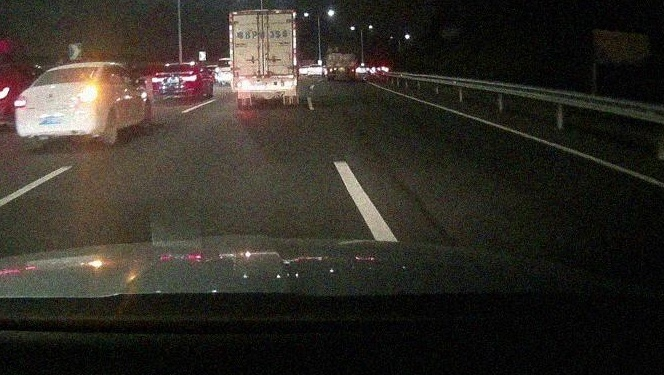L_light: (14, 96, 27, 108), (234, 81, 242, 89), (152, 77, 164, 82)
R_light: (74, 91, 95, 100), (182, 75, 196, 81), (283, 80, 291, 88)
T_light: (72, 65, 85, 69), (254, 11, 267, 14), (176, 64, 185, 66)
night-no: (229, 9, 297, 110), (152, 62, 197, 104)
night-right: (14, 62, 108, 150)
